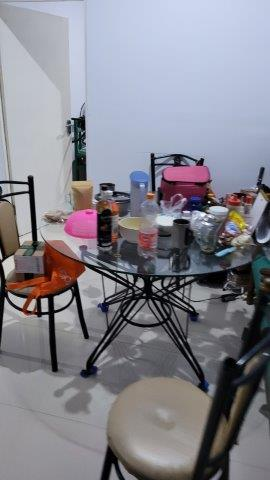botolkaca: (91, 185, 116, 253)
